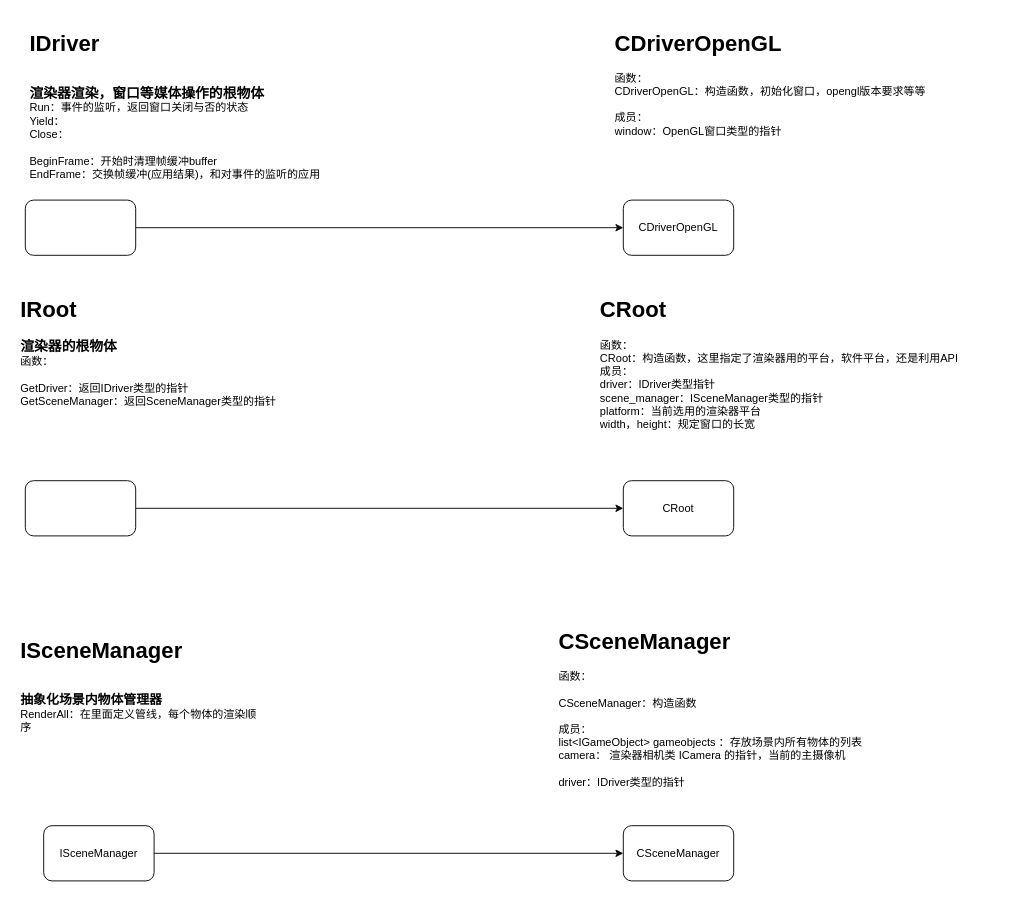
Some shapes in this 1034 by 897 pixel diagram are drawn without their labels. Here are the shapes that lost their labels. From the top down, the box of each, then its label:
(24, 199, 136, 255): IDriver
(24, 480, 136, 536): IRoot
